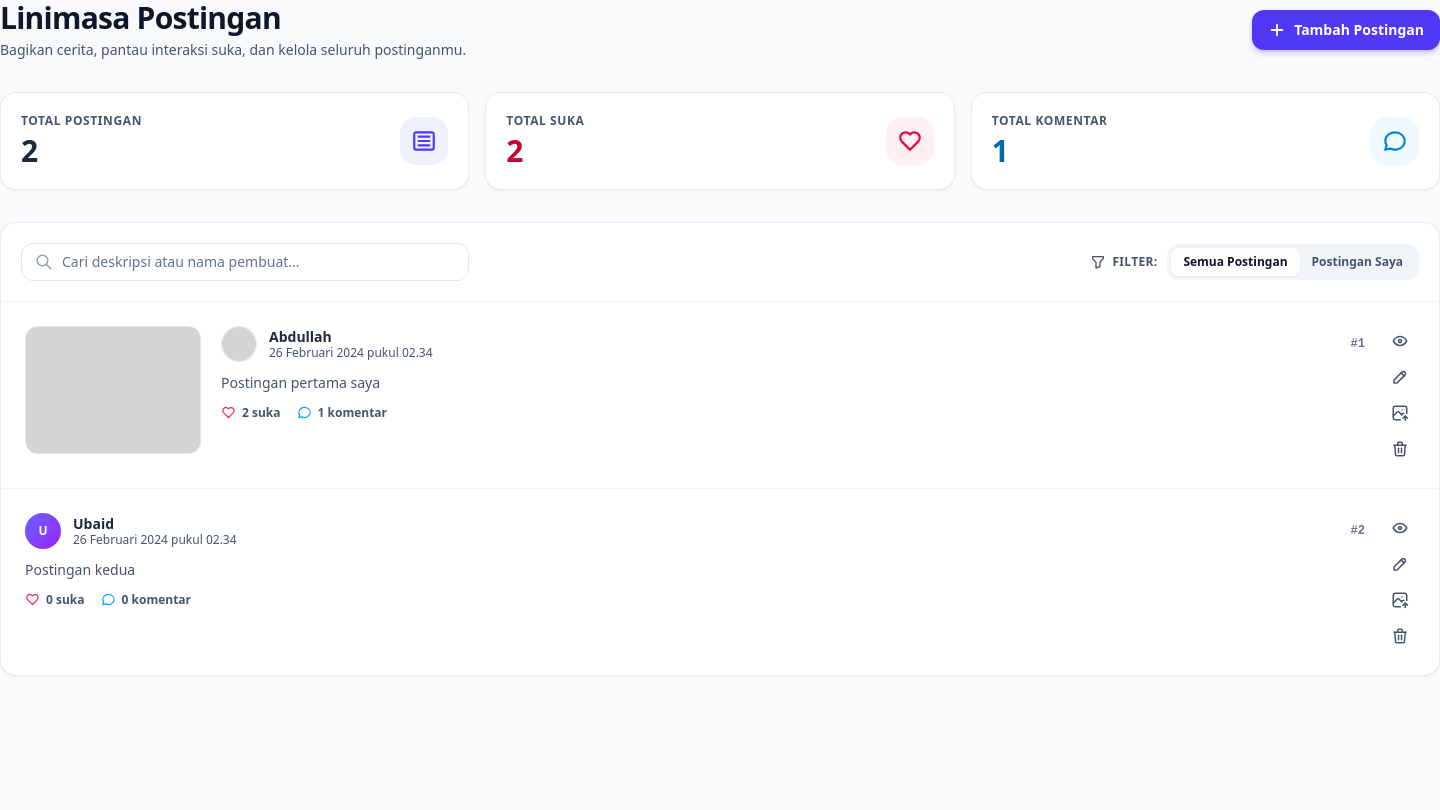
Test: HomePage › should open and close cover modal when cover icon clicked
Click the button with test id "cover-post-1": [1400, 413] box [1385,398,1415,428]
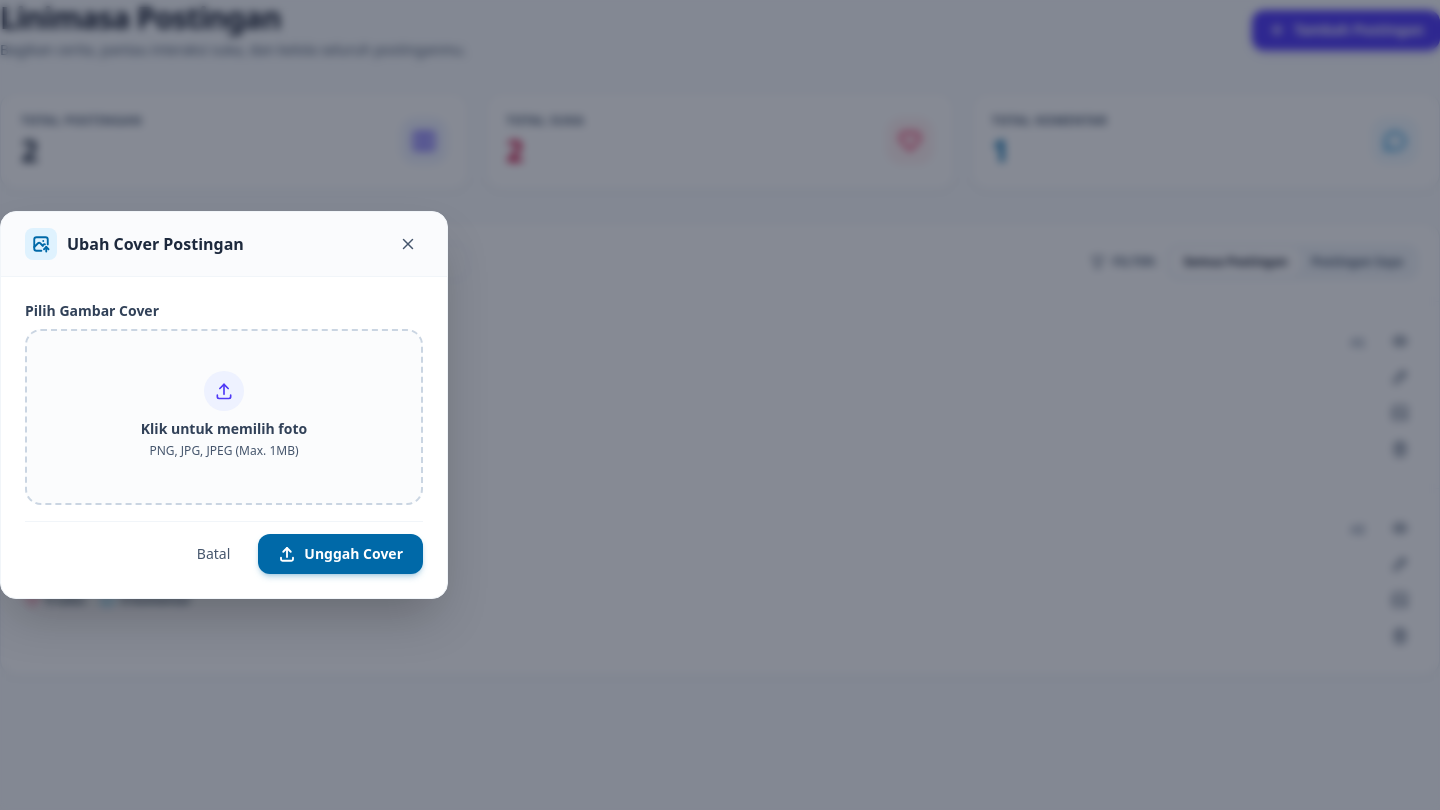
Expected: the element with test id "change-cover-modal" is shown
Click the button with test id "close-cover-modal-btn": [408, 244] box [393,229,423,259]
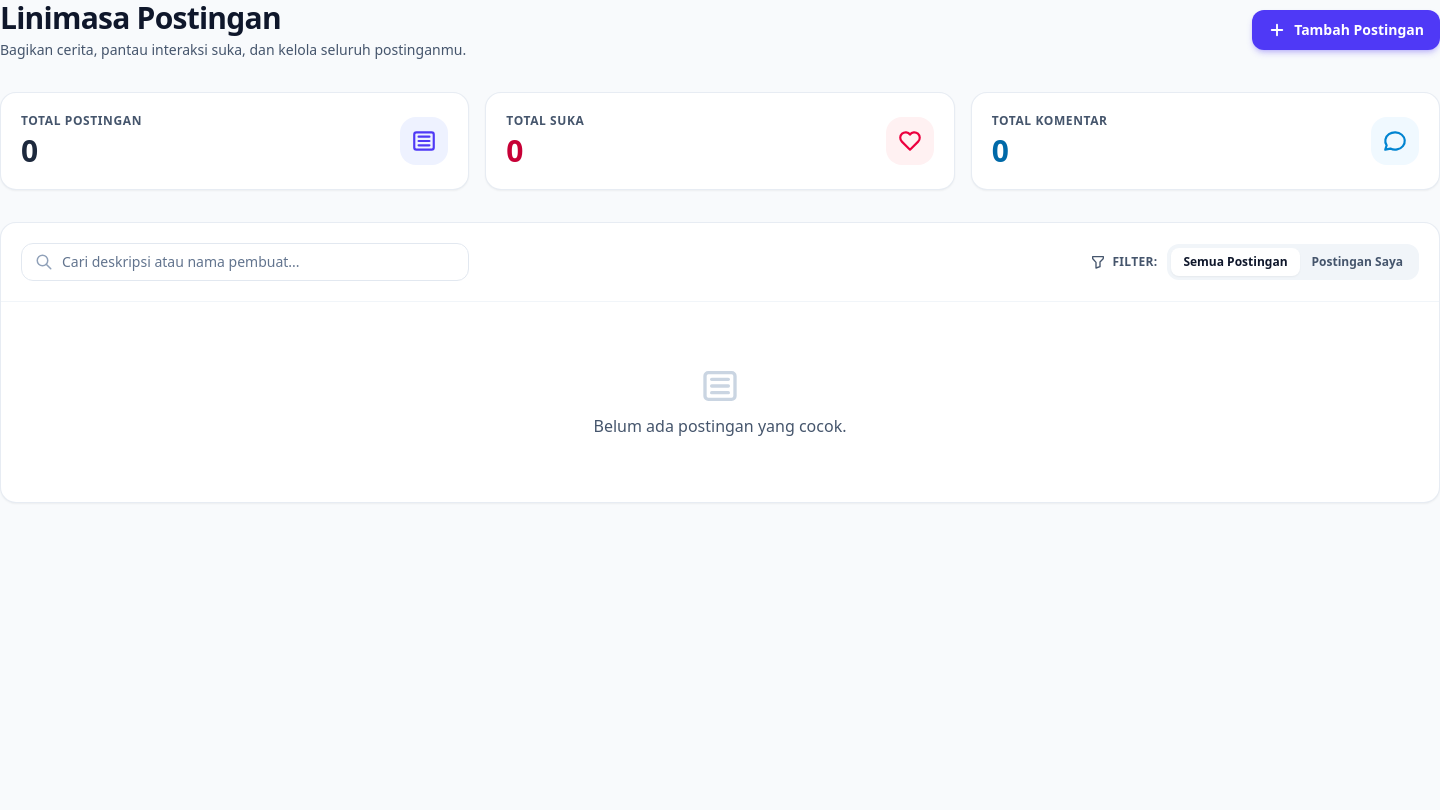
Expected: the element with test id "change-cover-modal" is gone
